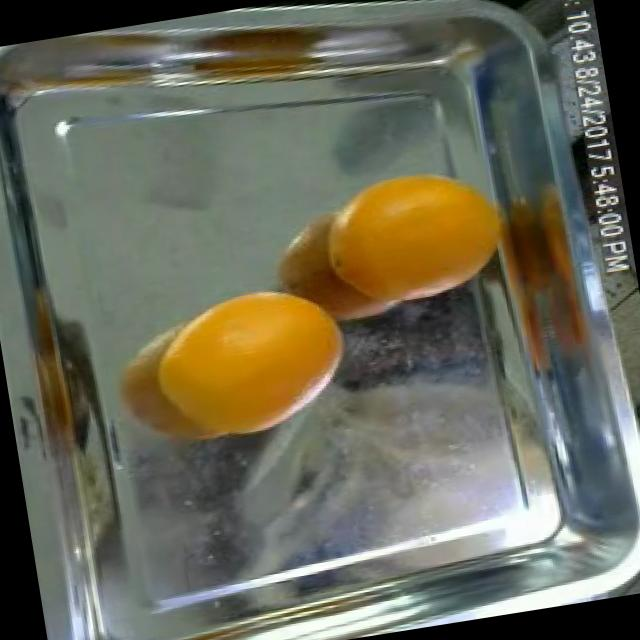Fruit: (288, 146, 527, 344), (143, 262, 377, 456)
